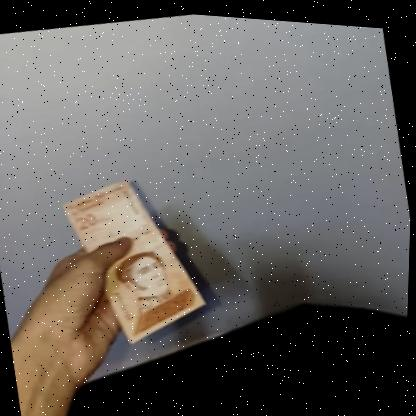twenty-front-vef: (55, 161, 216, 354)
